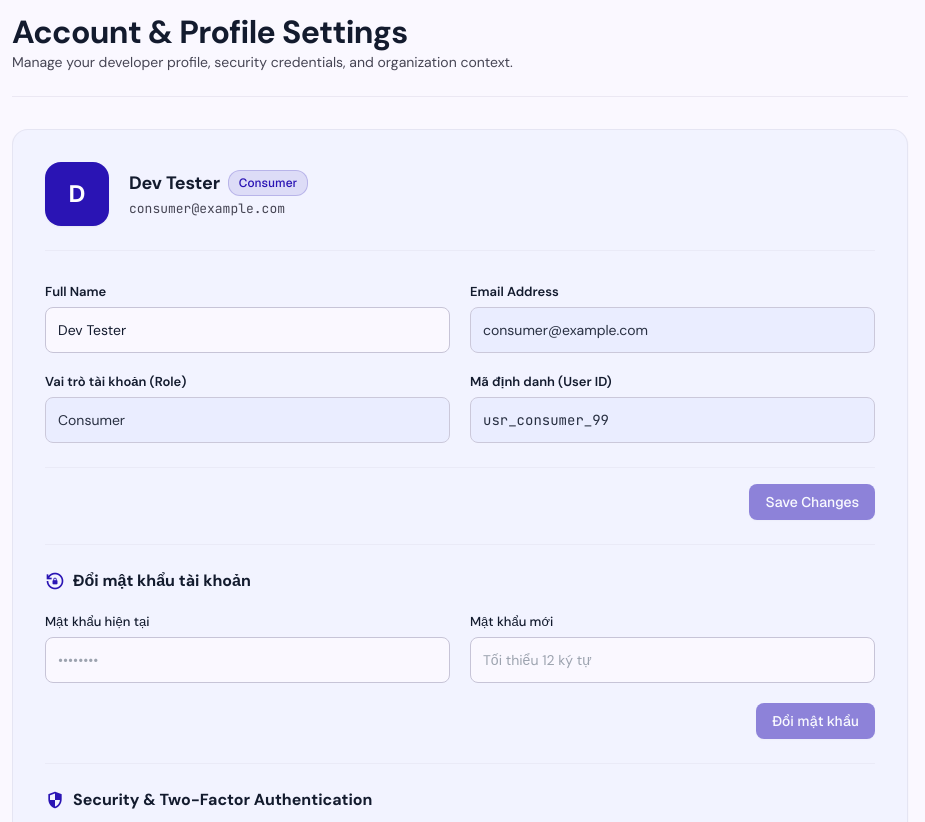
Consumer Pages - Sprint 3 Real Backend Alignment & Honest States › ProfileSettingsPage › changes the password through POST /api/auth/change-password
The image size is (925, 822).
Type "Example-password-2026" into the password field labelled "Mật khẩu hiện tại" at [248, 660], box [45,637,450,683]
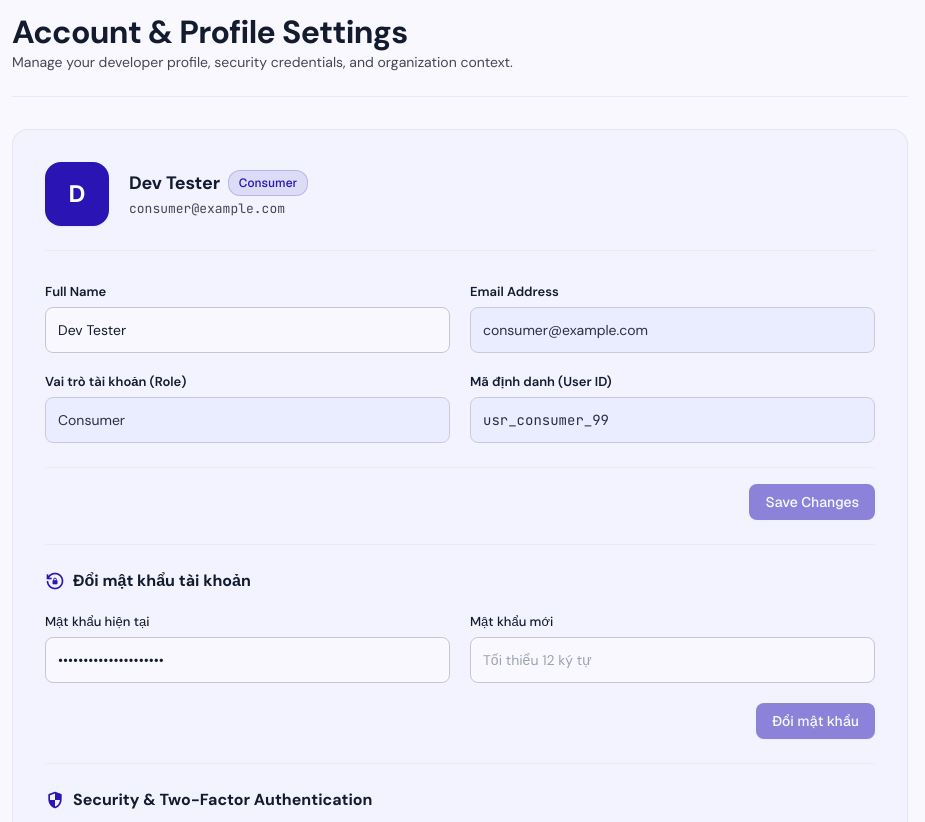
Type "Another-password-2026" into the password field labelled "Mật khẩu mới" at [672, 660], box [470,637,875,683]
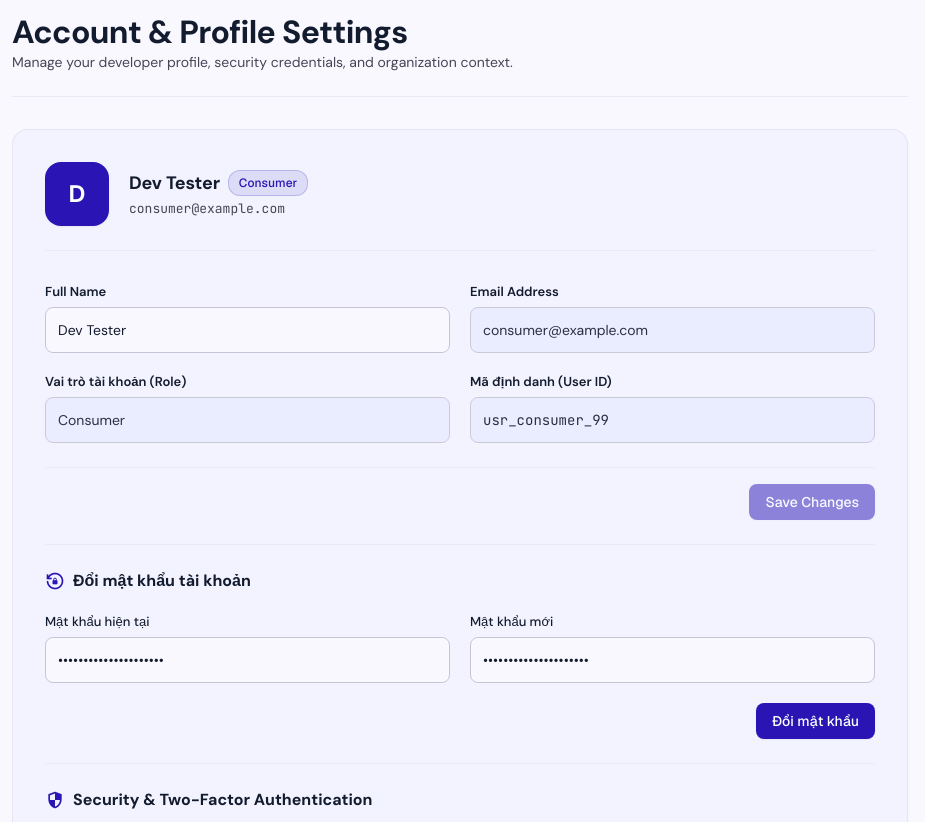
Click the button "Đổi mật khẩu" at [816, 721], box [756,703,875,739]
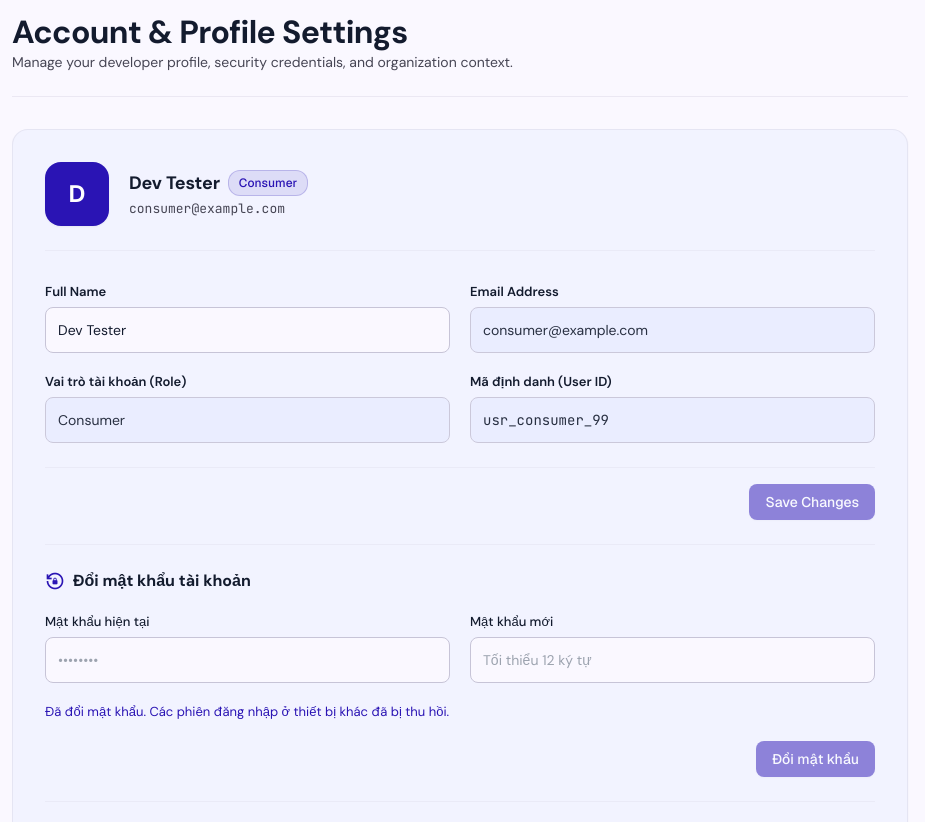
Now the text "Đã đổi mật khẩu. Các phiên đăng nhập ở thiết bị khác đã bị thu hồi." is shown, box [45,703,449,720]
